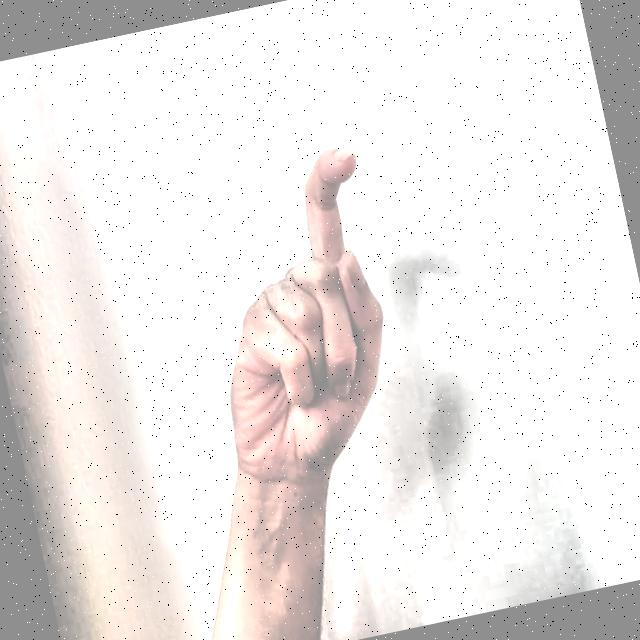E: (144, 112, 458, 519)
